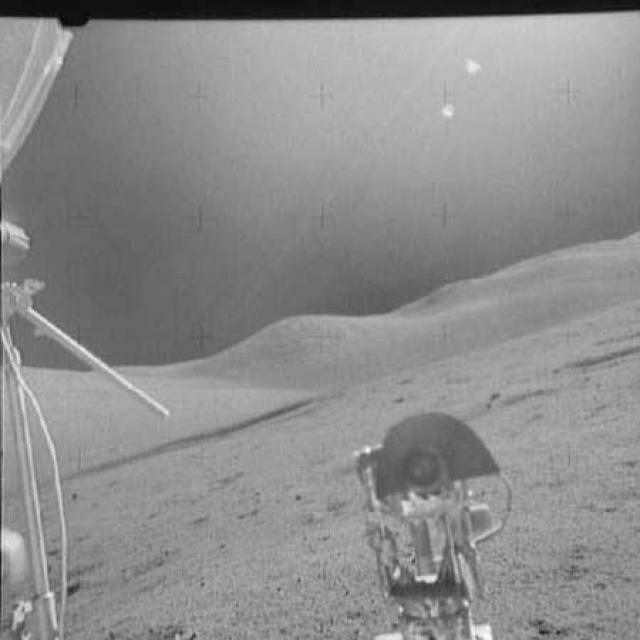artifact: (0, 12, 174, 420), (344, 406, 519, 638), (0, 421, 93, 639)
crater: (549, 338, 639, 372)
